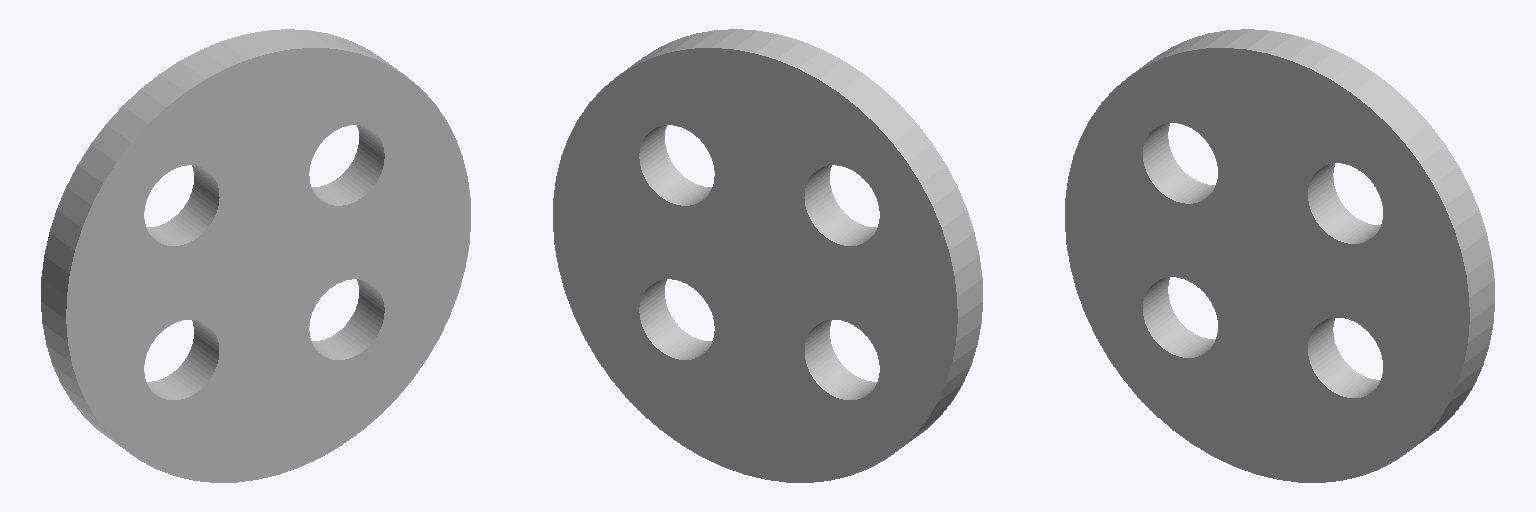
File: SmallButton.obj
3 renders of one model, left to right at view 1: azimuth 30°, elevation 25°; view 2: azimuth 150°, elevation 25°; view 3: azimuth 330°, elevation 25°, orthographic.
Visible parts, largest first — view 1: object_1; view 2: object_1; view 3: object_1.
Boxes of the visible parts, x1=… form: object_1: x1=41, y1=29, x2=470, y2=482; object_1: x1=553, y1=29, x2=982, y2=482; object_1: x1=1065, y1=29, x2=1494, y2=482.
Bounding box in the file's own units: 0.0139 × 0.0139 × 0.0015.